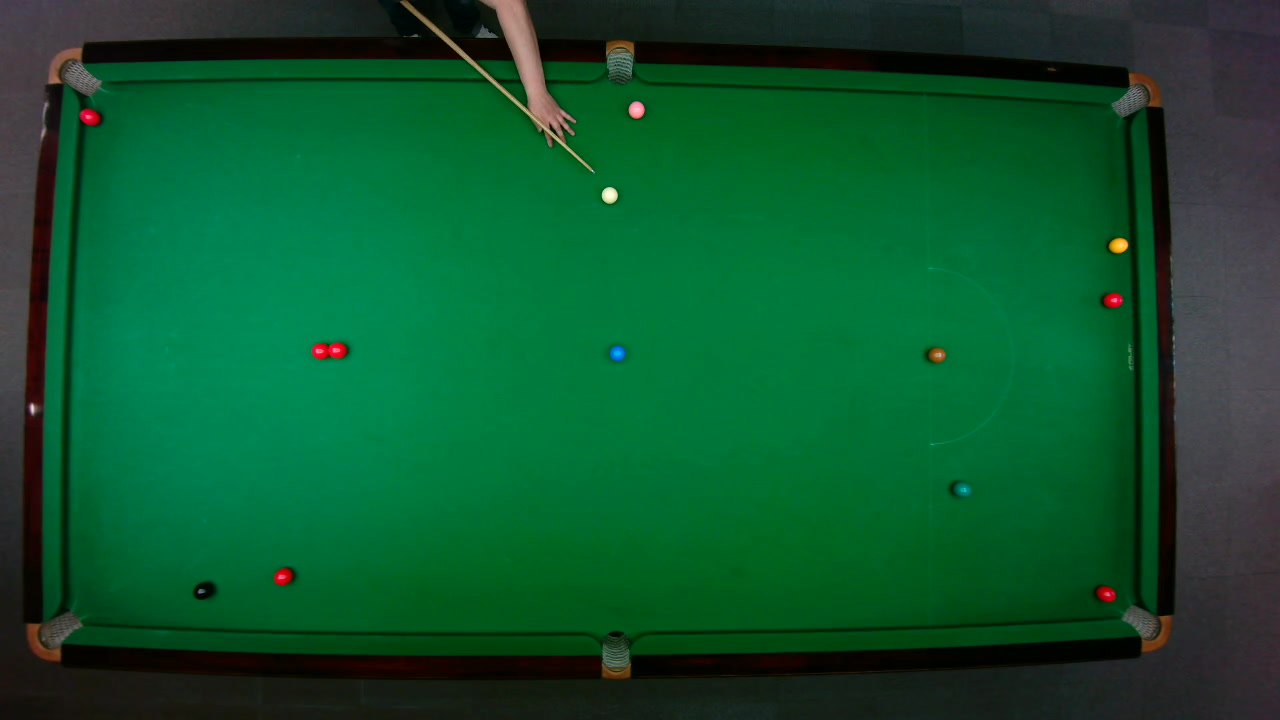bag: (25, 609, 83, 661), (46, 46, 102, 95), (1119, 603, 1172, 652), (1108, 71, 1161, 118), (600, 629, 629, 680), (605, 38, 633, 85)
black: (192, 581, 212, 600)
blue: (608, 344, 626, 361)
brown: (926, 346, 946, 362)
cue: (400, 0, 597, 174)
green: (950, 480, 972, 497)
pink: (626, 99, 646, 119)
red: (77, 106, 101, 125), (323, 340, 347, 359), (272, 566, 294, 586), (1094, 584, 1116, 602), (309, 341, 330, 359), (1101, 291, 1123, 308)
white: (599, 184, 619, 204)
yellow: (1107, 236, 1129, 253)
zone: (927, 266, 1013, 446)
